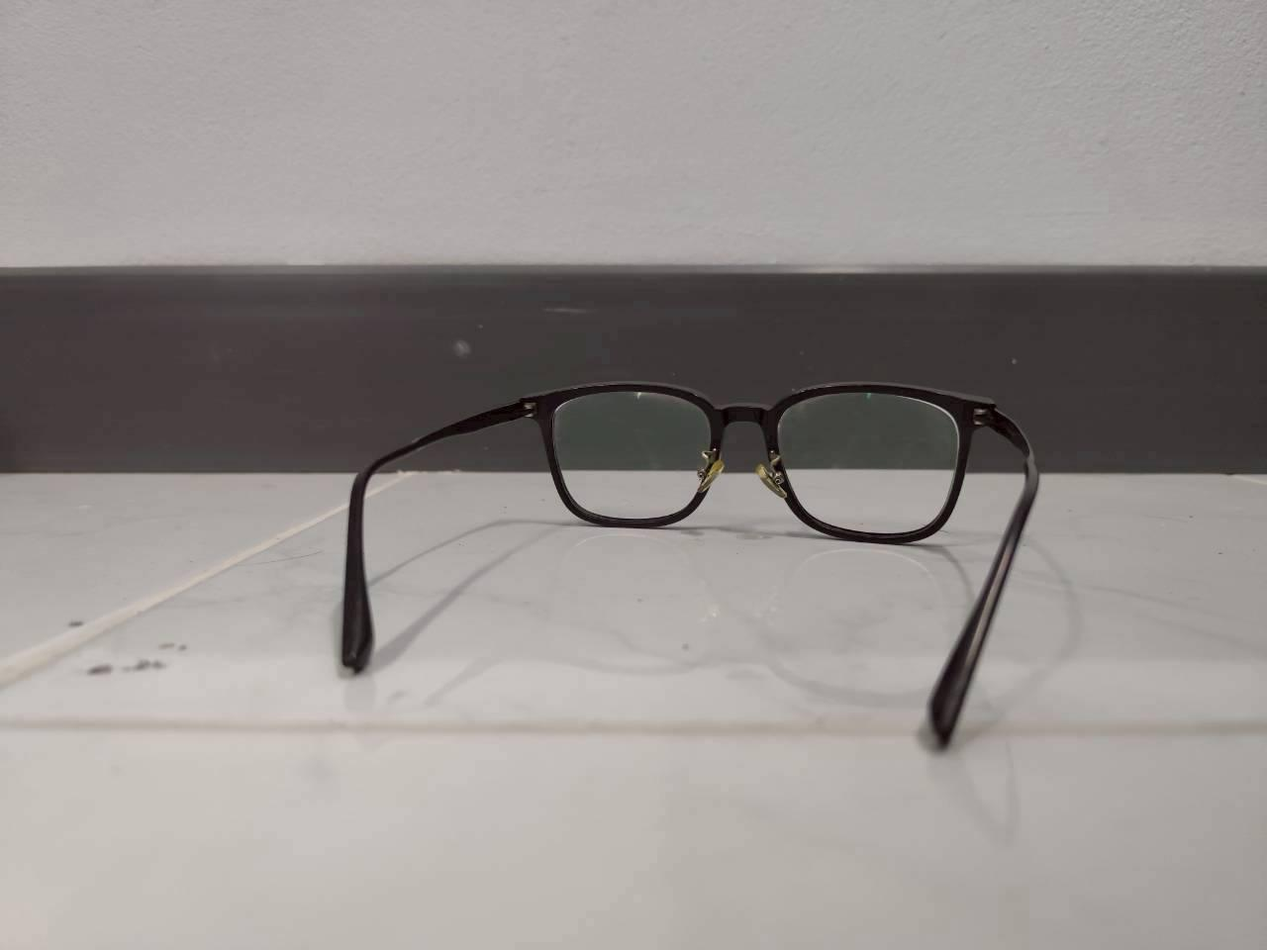glasses: (320, 379, 1057, 747)
